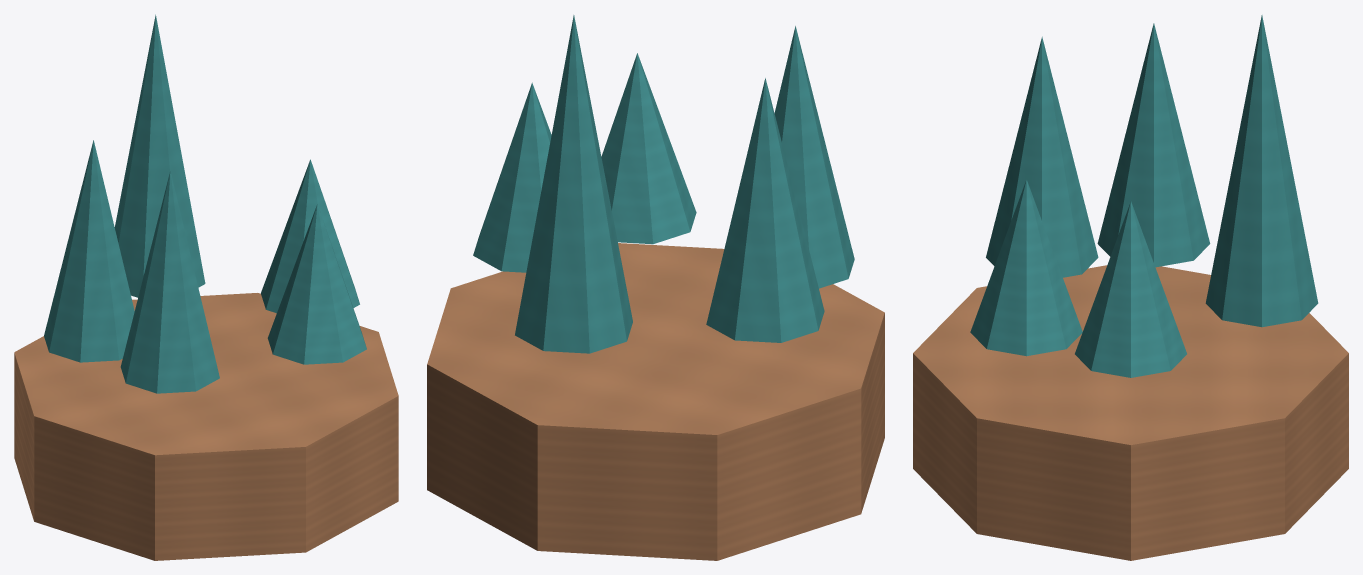
The model's file is atlas100-s091-a12.glb.
3 views of the same model, side by side, from view 1: azimuth 30°, elevation 25°; view 2: azimuth 150°, elevation 25°; view 3: azimuth 270°, elevation 25° (orthographic). The views are drawn at different scales.
Parts seen in each view (by area): view 1: atlas100-s091-a12:part-000, atlas100-s091-a12:part-002, atlas100-s091-a12:part-005, atlas100-s091-a12:part-003, atlas100-s091-a12:part-004, atlas100-s091-a12:part-001; view 2: atlas100-s091-a12:part-000, atlas100-s091-a12:part-003, atlas100-s091-a12:part-005, atlas100-s091-a12:part-004, atlas100-s091-a12:part-002, atlas100-s091-a12:part-001; view 3: atlas100-s091-a12:part-000, atlas100-s091-a12:part-003, atlas100-s091-a12:part-005, atlas100-s091-a12:part-002, atlas100-s091-a12:part-001, atlas100-s091-a12:part-004.
Part boxes in pixels (box(x1,y1,x2,y2)): atlas100-s091-a12:part-000: box(14, 293, 398, 560); atlas100-s091-a12:part-002: box(120, 171, 219, 393); atlas100-s091-a12:part-005: box(44, 140, 134, 362); atlas100-s091-a12:part-003: box(114, 14, 205, 297); atlas100-s091-a12:part-004: box(267, 204, 366, 364); atlas100-s091-a12:part-001: box(261, 159, 359, 313); atlas100-s091-a12:part-000: box(427, 243, 884, 560); atlas100-s091-a12:part-003: box(515, 15, 632, 353); atlas100-s091-a12:part-005: box(706, 78, 824, 342); atlas100-s091-a12:part-004: box(601, 53, 696, 244); atlas100-s091-a12:part-002: box(774, 26, 854, 288); atlas100-s091-a12:part-001: box(473, 82, 551, 272); atlas100-s091-a12:part-000: box(913, 265, 1348, 560); atlas100-s091-a12:part-003: box(1205, 15, 1318, 327); atlas100-s091-a12:part-005: box(1097, 23, 1210, 267); atlas100-s091-a12:part-002: box(986, 36, 1098, 277); atlas100-s091-a12:part-001: box(1075, 201, 1186, 377); atlas100-s091-a12:part-004: box(970, 179, 1082, 356).
Bounding box in the file's own units: 1.16 × 1.35 × 1.16.
2 materials, 2 textured.
